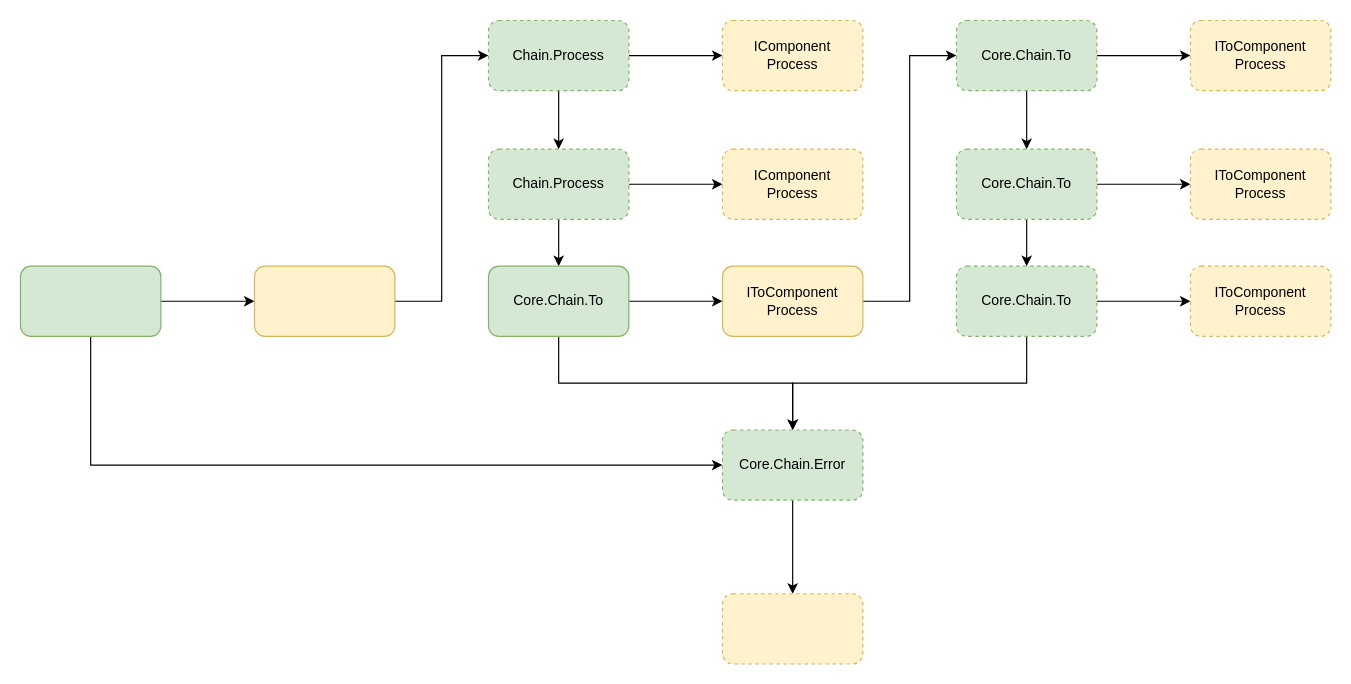
Image size: 1351x684. Some labels were removed from this diagram. Each missing label, with the centre of its shape:
"Core.Chain.From" goes at (90,300).
"IErrorComponent Process" goes at (792,628).
"IFromComponent Process" goes at (324,300).
